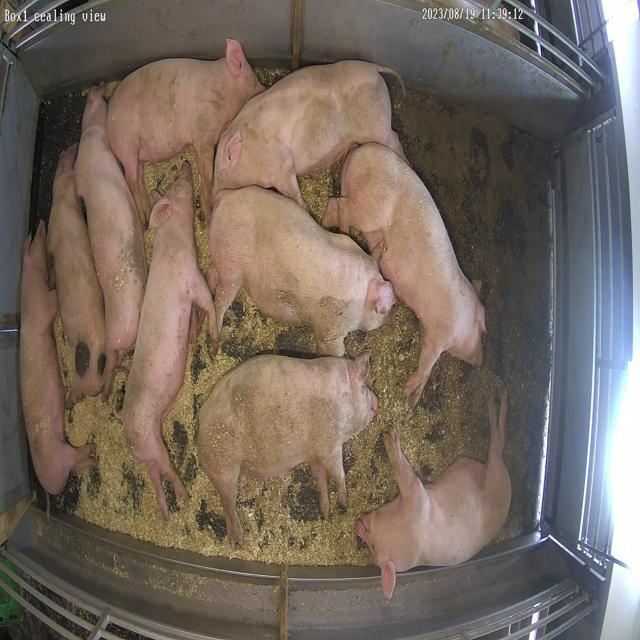Dirt: (396, 90, 553, 540)
Pig: (323, 143, 486, 408), (198, 352, 379, 548), (122, 164, 216, 518), (357, 392, 512, 600), (208, 186, 396, 356), (108, 38, 264, 220), (214, 60, 405, 204), (74, 86, 147, 378), (20, 222, 93, 494), (47, 145, 106, 400)
